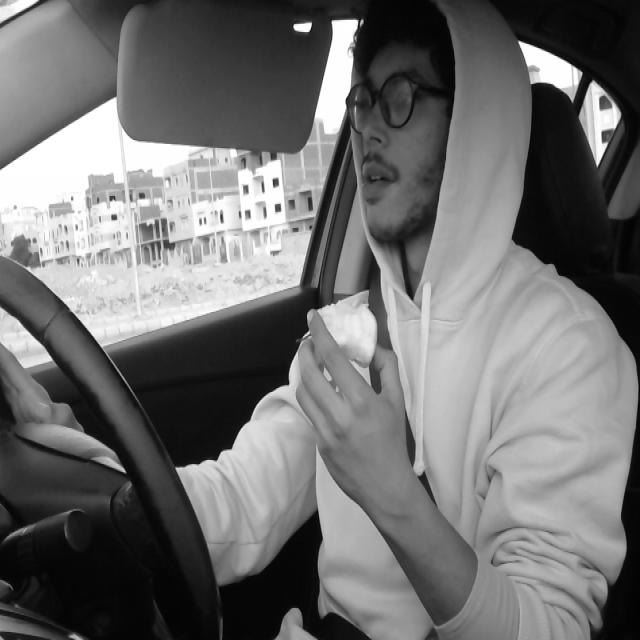eating: (301, 296, 383, 380)
